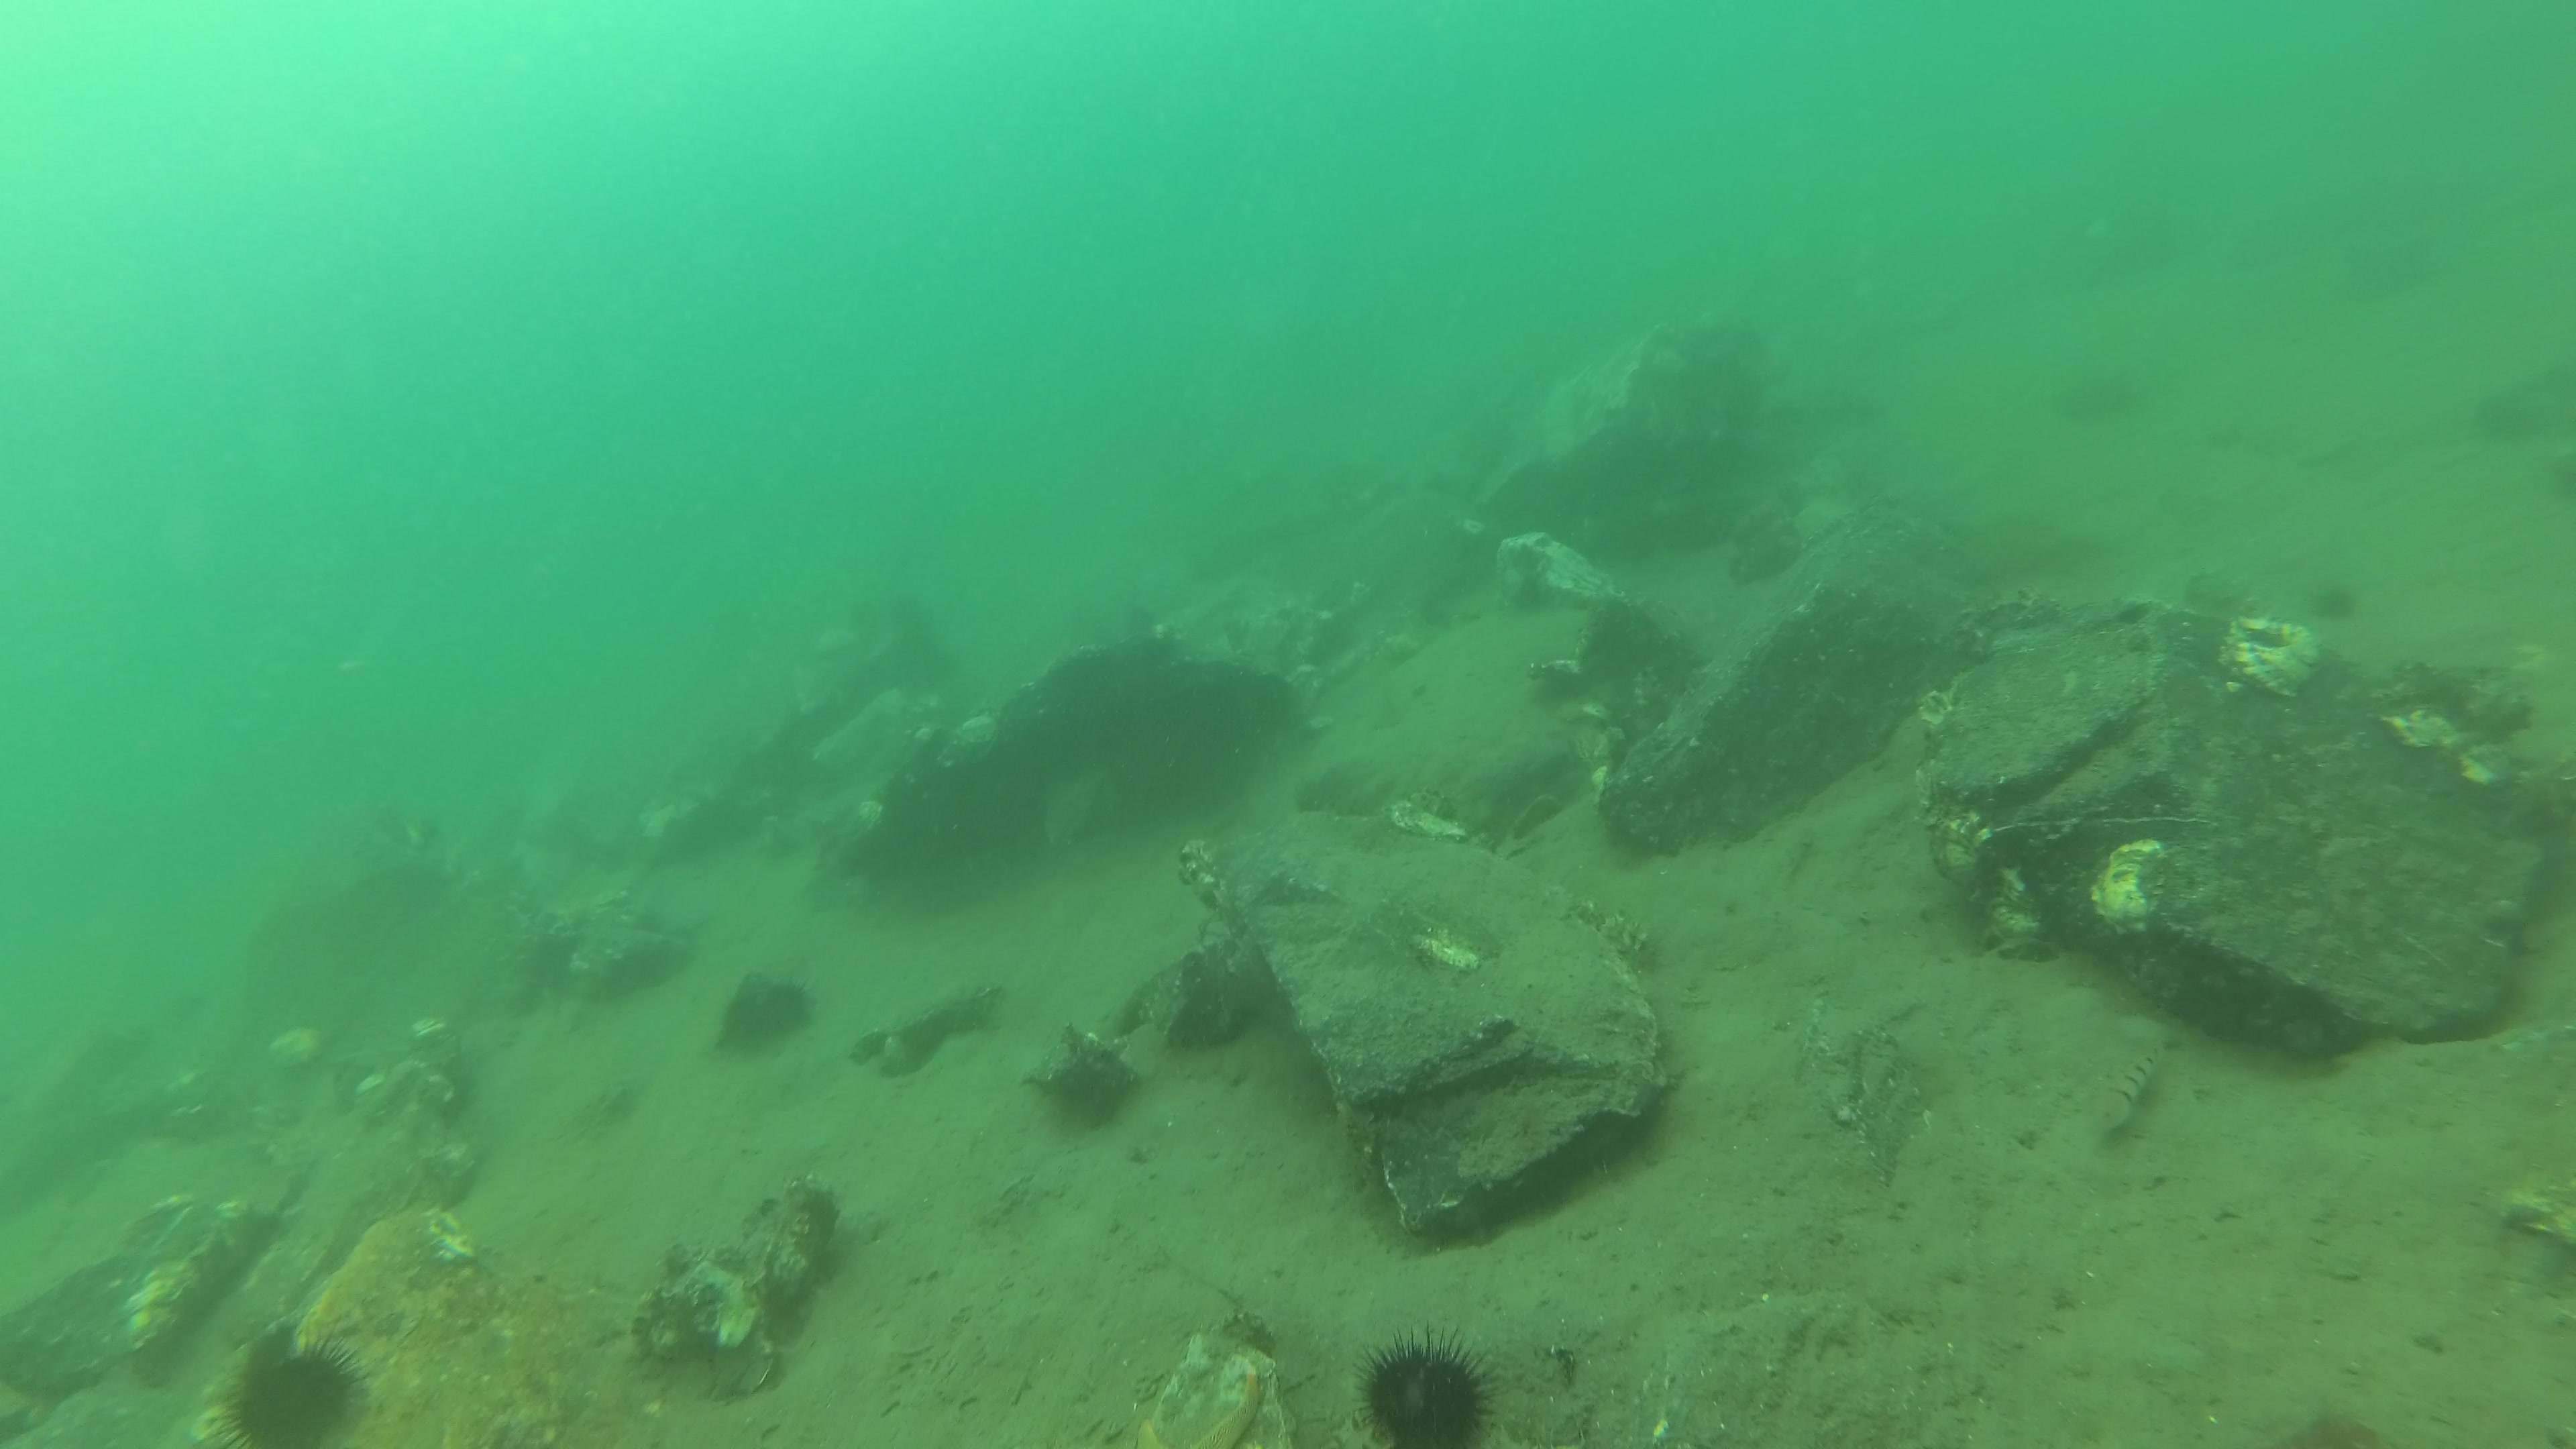echinus: (1348, 1338, 1500, 1449), (212, 1348, 375, 1445)
